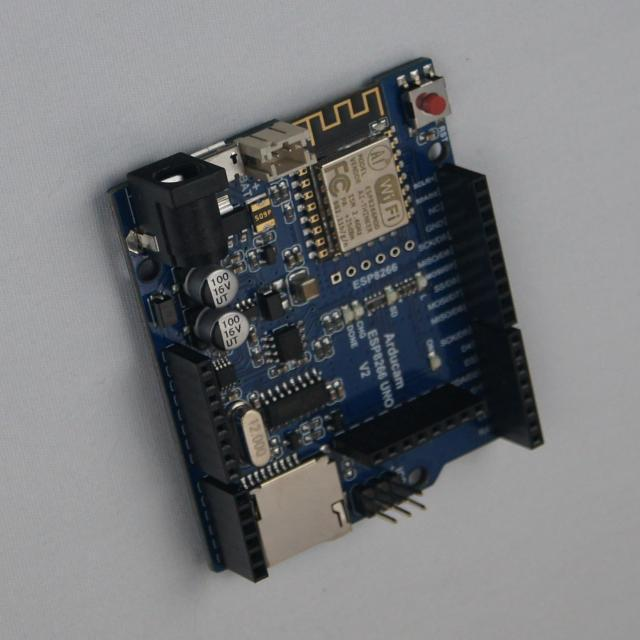Arduino Uno Camera Shield: (111, 58, 544, 582)
